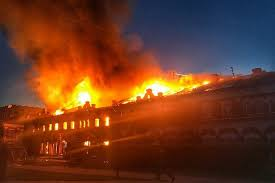fire: (41, 59, 214, 138)
